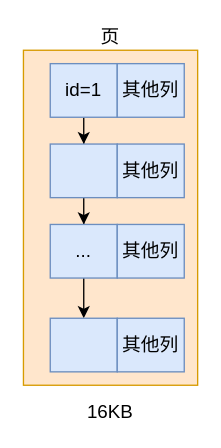
The diagram is 221 pixels wide and 448 high, and some of its shapes have lost their labels. Here are the shapes that lost their labels. From the top down, the box of each, then its label:
(49, 143, 117, 198): id=2
(49, 317, 117, 372): id=100
